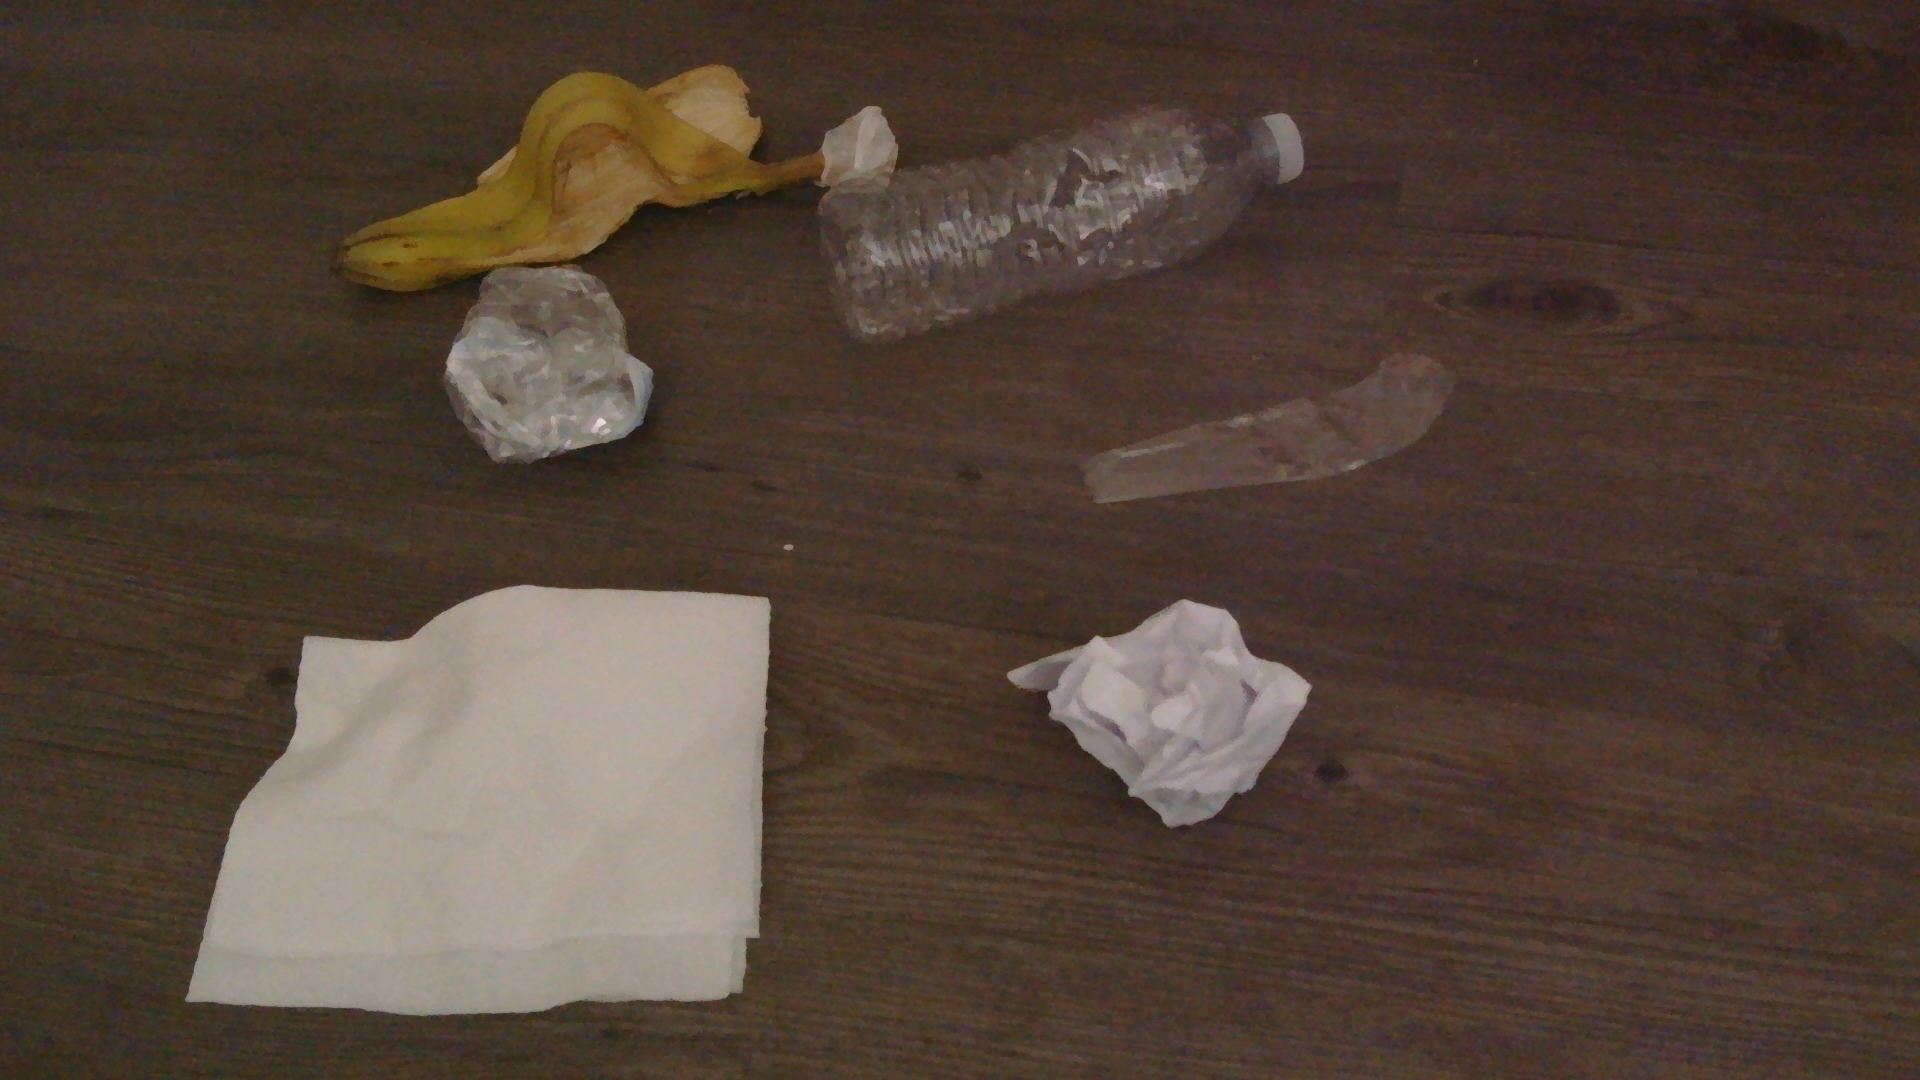banana: (330, 54, 855, 291)
banana peel: (330, 54, 891, 291)
bottle: (810, 102, 1311, 339)
crushed bottle: (438, 258, 651, 459)
napkin: (186, 582, 771, 1011)
paper ball: (1002, 593, 1311, 831)
plastic piece: (1073, 342, 1455, 506)
